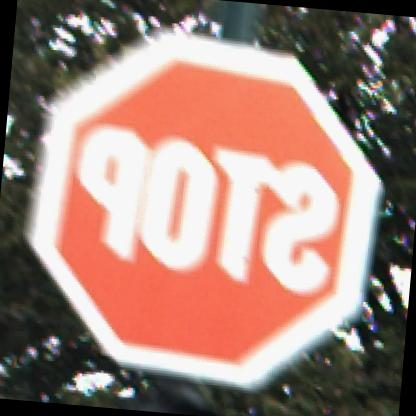stop: (4, 14, 401, 395)
